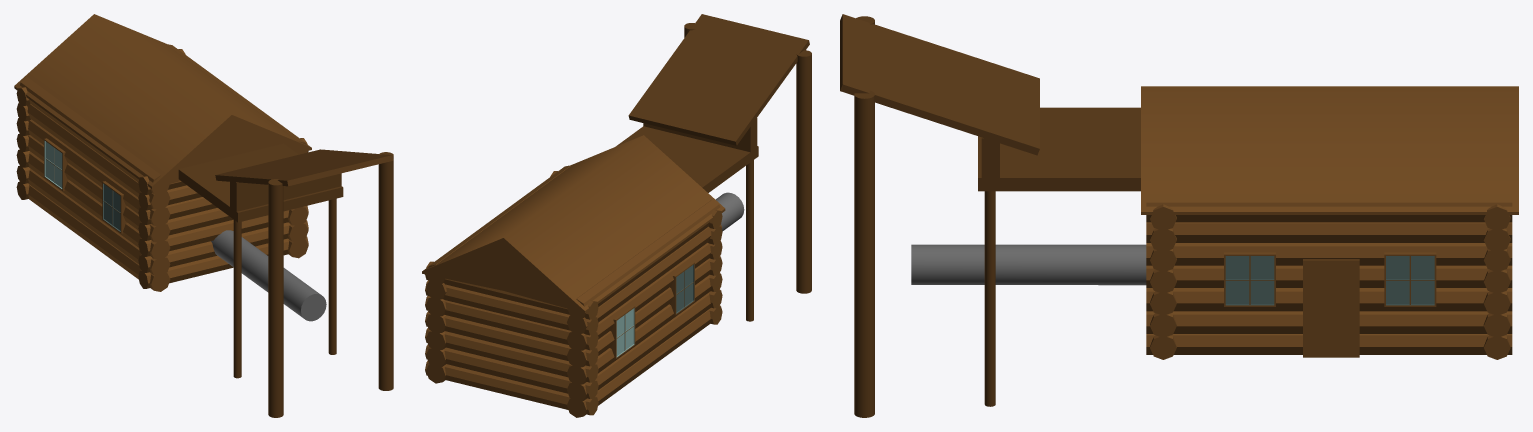
File: WaterMill.fbx
3 views of the same model, side by side, from view 1: azimuth 30°, elevation 25°; view 2: azimuth 150°, elevation 25°; view 3: azimuth 270°, elevation 25° (orthographic). The views are drawn at different scales.
Visible parts, largest first — view 1: pasted__group1_pasted__pasted__pCylinder2; view 2: pasted__group1_pasted__pasted__pCylinder2; view 3: pasted__group1_pasted__pasted__pCylinder2.
Boxes of the visible parts, left/top/right/bottom form: pasted__group1_pasted__pasted__pCylinder2: left=14, top=14, right=393, bottom=417; pasted__group1_pasted__pasted__pCylinder2: left=422, top=14, right=811, bottom=417; pasted__group1_pasted__pasted__pCylinder2: left=840, top=14, right=1518, bottom=417.
Size of the model in its own units: 10.08 by 14.31 by 26.84.
